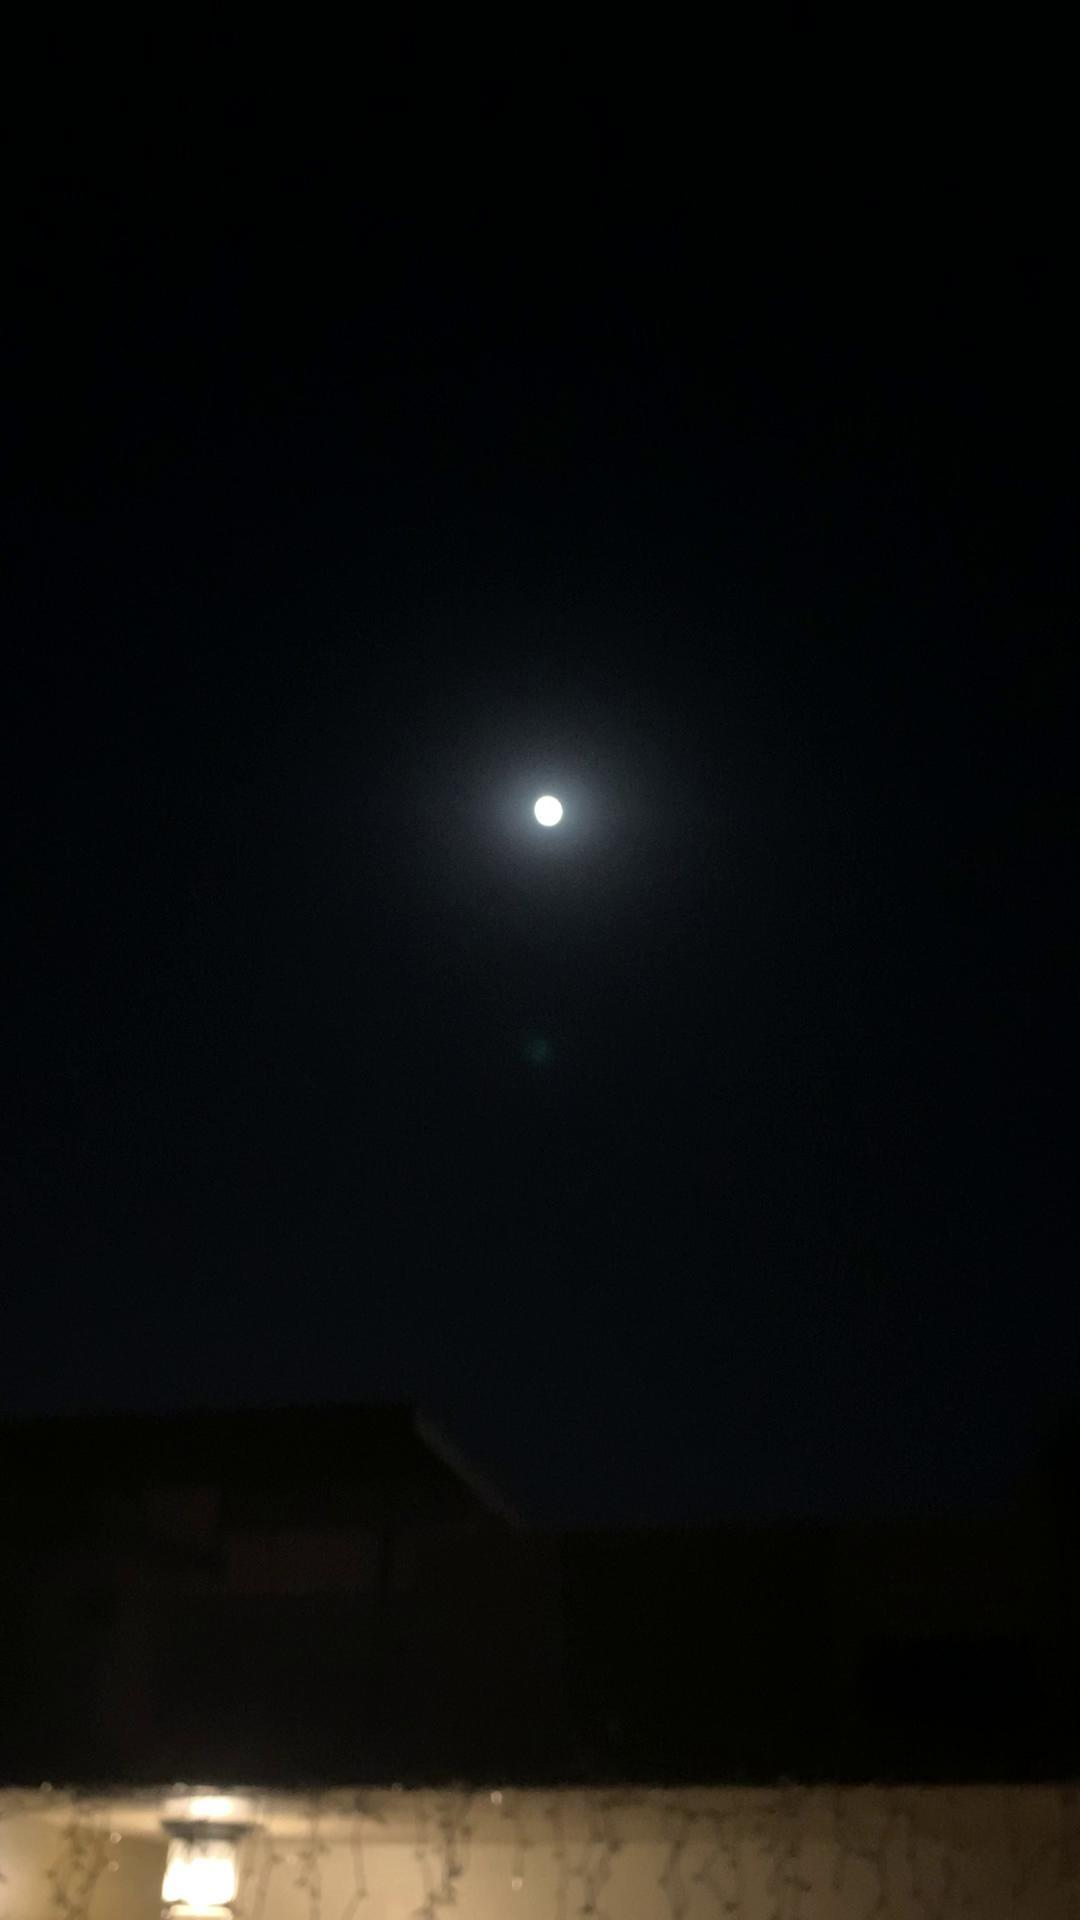moon: (509, 760, 596, 856)
